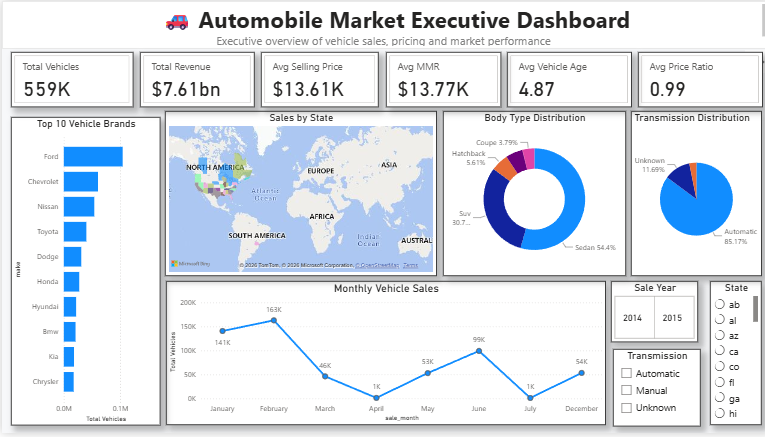

The dashboard page shown, as its layout file describes it:
{"tool":"powerbi","page":{"name":"Executive Dashboard","canvas":[1280,720],"ordinal":1},"visuals":[{"type":"textbox","box":[0,0,1280,80],"z":0},{"type":"lineChart","title":"Monthly Vehicle Sales","fields":{"Category":["cleaned_vehicle_sales.sale_month"],"Y":["cleaned_vehicle_sales.Total Vehicles"]},"box":[273.5,467.1,732.9,240],"z":1000},{"type":"clusteredBarChart","title":"Top 10 Vehicle Brands","fields":{"Category":["cleaned_vehicle_sales.make"],"Y":["cleaned_vehicle_sales.Total Vehicles"]},"box":[14.4,193,249.1,514.1],"z":2000},{"type":"filledMap","title":"Sales by State","fields":{"Category":["cleaned_vehicle_sales.state"],"Series":["cleaned_vehicle_sales.sellingprice"]},"box":[272.3,183.2,452.9,274.8],"z":3000},{"type":"listSlicer","title":"State","fields":{"Values":["cleaned_vehicle_sales.state"]},"box":[1179.4,466.6,86.4,240.5],"z":4000},{"type":"advancedSlicerVisual","title":"Sale Year","fields":{"Values":["cleaned_vehicle_sales.sale_year"]},"box":[1015.2,466.6,145.4,102.2],"z":5000},{"type":"slicer","title":"Transmission","fields":{"Values":["cleaned_vehicle_sales.transmission"]},"box":[1018.1,579.4,145.8,129],"z":6000},{"type":"donutChart","title":"Body Type Distribution","fields":{"Category":["cleaned_vehicle_sales.body"],"Y":["cleaned_vehicle_sales.Total Vehicles"]},"box":[734.2,183.2,304.5,274.8],"z":7000},{"type":"pieChart","title":"Transmission Distribution","fields":{"Category":["cleaned_vehicle_sales.transmission"],"Y":["cleaned_vehicle_sales.Total Vehicles"]},"box":[1049,183.2,218.1,274.8],"z":8000},{"type":"cardVisual","fields":{"Data":["cleaned_vehicle_sales.Total Vehicles"]},"box":[14.2,85.2,203.9,91.6],"z":9000},{"type":"cardVisual","fields":{"Data":["cleaned_vehicle_sales.Total Revenue"]},"box":[229.7,85.2,191,91.6],"z":10000},{"type":"cardVisual","fields":{"Data":["cleaned_vehicle_sales.Average Selling Price"]},"box":[431,85.2,196.1,91.6],"z":11000},{"type":"cardVisual","fields":{"Data":["cleaned_vehicle_sales.Avg Price Ratio"]},"box":[1059.4,85.2,207.7,91.6],"z":12000},{"type":"cardVisual","fields":{"Data":["cleaned_vehicle_sales.Avg Vehicle Age"]},"box":[841.3,85.2,207.7,91.6],"z":13000},{"type":"cardVisual","fields":{"Data":["cleaned_vehicle_sales.Avg MMR"]},"box":[640,85.2,192.3,91.6],"z":14000}]}

Visuals, with their boxes in screenshot pixels (x1, y1, x2, y2), scaled from the page's 1280x720 canvas onto the 765x437 screenshot:
textbox: bbox=[0, 0, 764, 49]
"Monthly Vehicle Sales" lineChart: bbox=[163, 284, 601, 429]
"Top 10 Vehicle Brands" clusteredBarChart: bbox=[9, 117, 157, 429]
"Sales by State" filledMap: bbox=[163, 111, 433, 278]
"State" listSlicer: bbox=[705, 283, 757, 429]
"Sale Year" advancedSlicerVisual: bbox=[607, 283, 694, 345]
"Transmission" slicer: bbox=[608, 352, 696, 430]
"Body Type Distribution" donutChart: bbox=[439, 111, 621, 278]
"Transmission Distribution" pieChart: bbox=[627, 111, 757, 278]
cardVisual - cleaned_vehicle_sales.Total Vehicles: bbox=[8, 52, 130, 107]
cardVisual - cleaned_vehicle_sales.Total Revenue: bbox=[137, 52, 251, 107]
cardVisual - cleaned_vehicle_sales.Average Selling Price: bbox=[258, 52, 375, 107]
cardVisual - cleaned_vehicle_sales.Avg Price Ratio: bbox=[633, 52, 757, 107]
cardVisual - cleaned_vehicle_sales.Avg Vehicle Age: bbox=[503, 52, 627, 107]
cardVisual - cleaned_vehicle_sales.Avg MMR: bbox=[382, 52, 497, 107]
